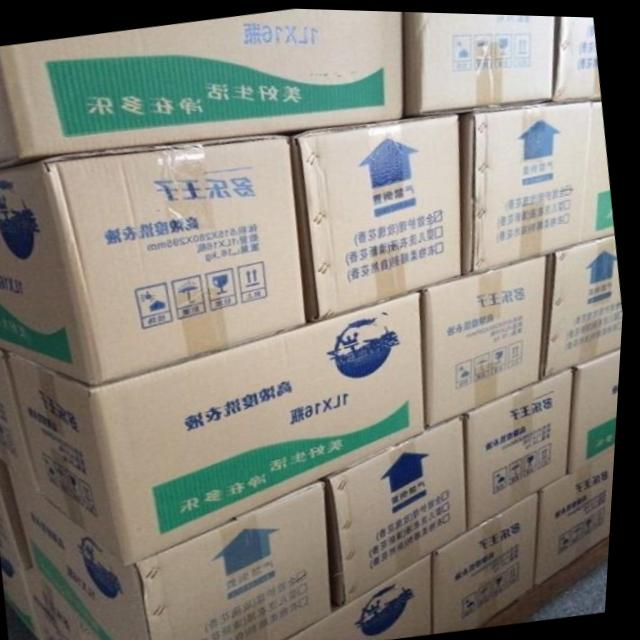box: (9, 286, 434, 564), (0, 130, 312, 385), (0, 7, 405, 166), (14, 464, 339, 640), (293, 111, 468, 320), (331, 413, 474, 607), (463, 98, 592, 272), (424, 251, 550, 426), (468, 365, 579, 528), (405, 9, 556, 115), (440, 489, 545, 631), (293, 554, 441, 640), (547, 231, 626, 376), (545, 441, 620, 582), (21, 550, 113, 640), (0, 346, 47, 493), (572, 346, 625, 471), (588, 94, 618, 240), (556, 13, 602, 98)
